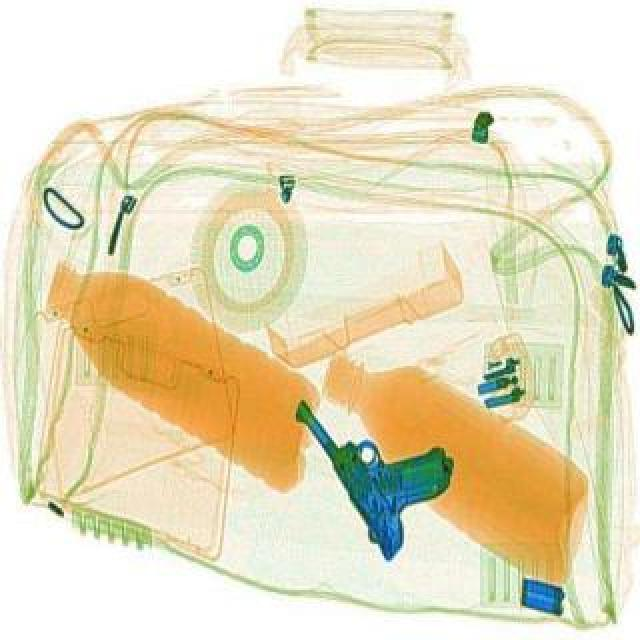gun: (286, 362, 482, 566)
